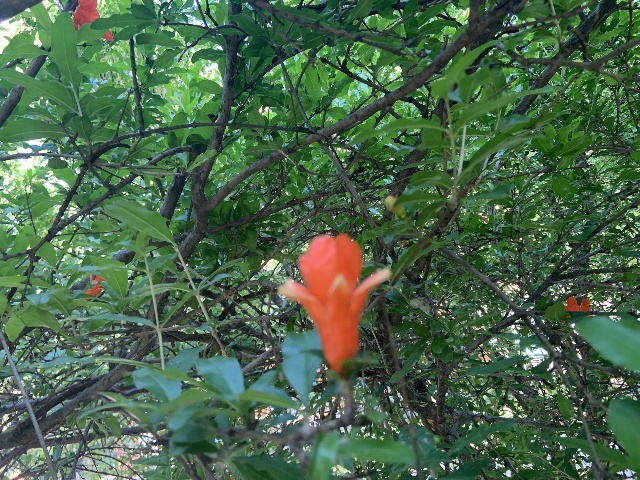flower: (278, 232, 391, 372), (71, 0, 113, 42), (562, 296, 590, 323), (84, 274, 105, 299)
